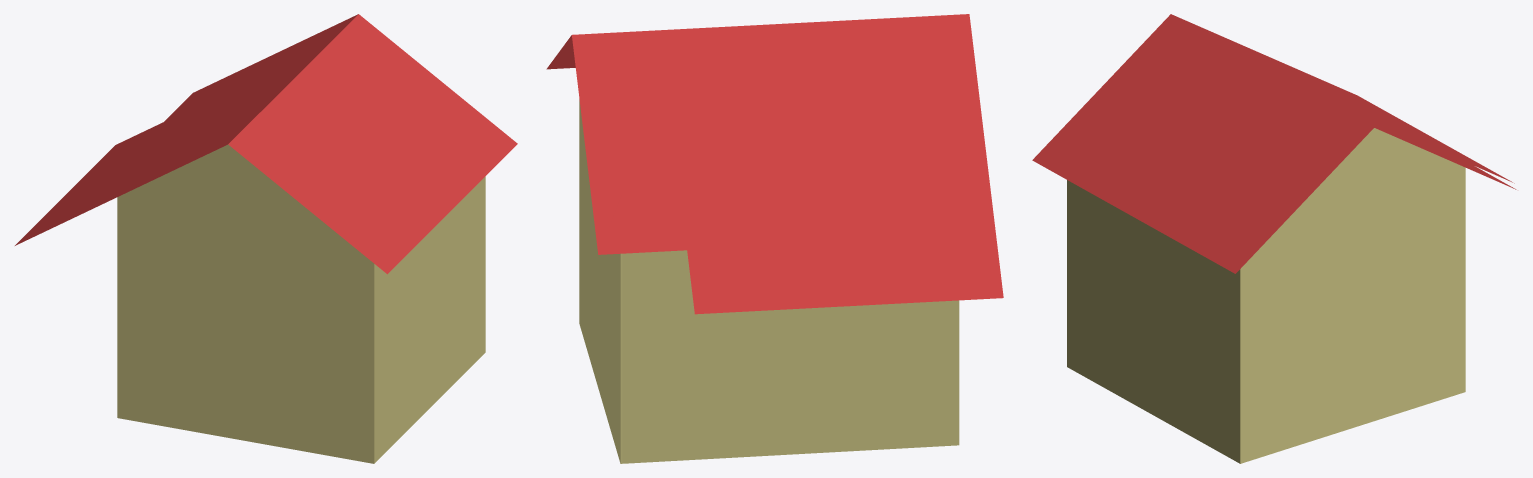
3 renders of one model, left to right at view 1: azimuth 30°, elevation 25°; view 2: azimuth 150°, elevation 25°; view 3: azimuth 270°, elevation 25°, orthographic. The views are drawn at different scales.
Size of the model in its own units: 15.52 by 14.67 by 10.2.
